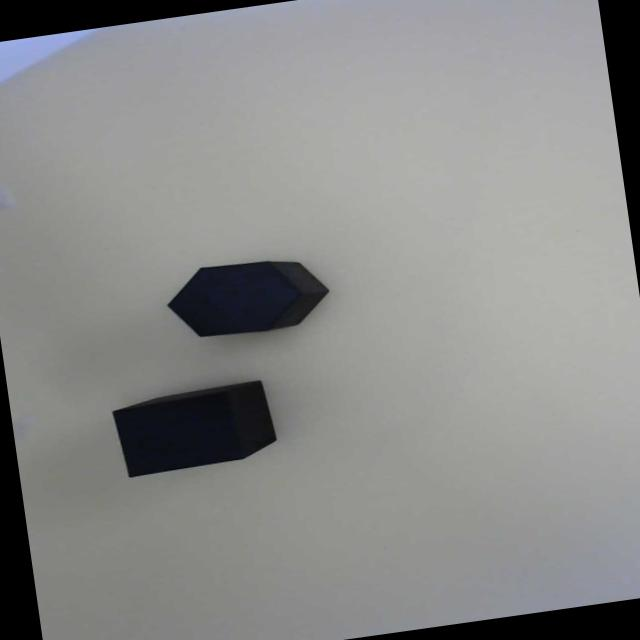hexagon: (166, 258, 303, 342)
square: (112, 392, 246, 479)
